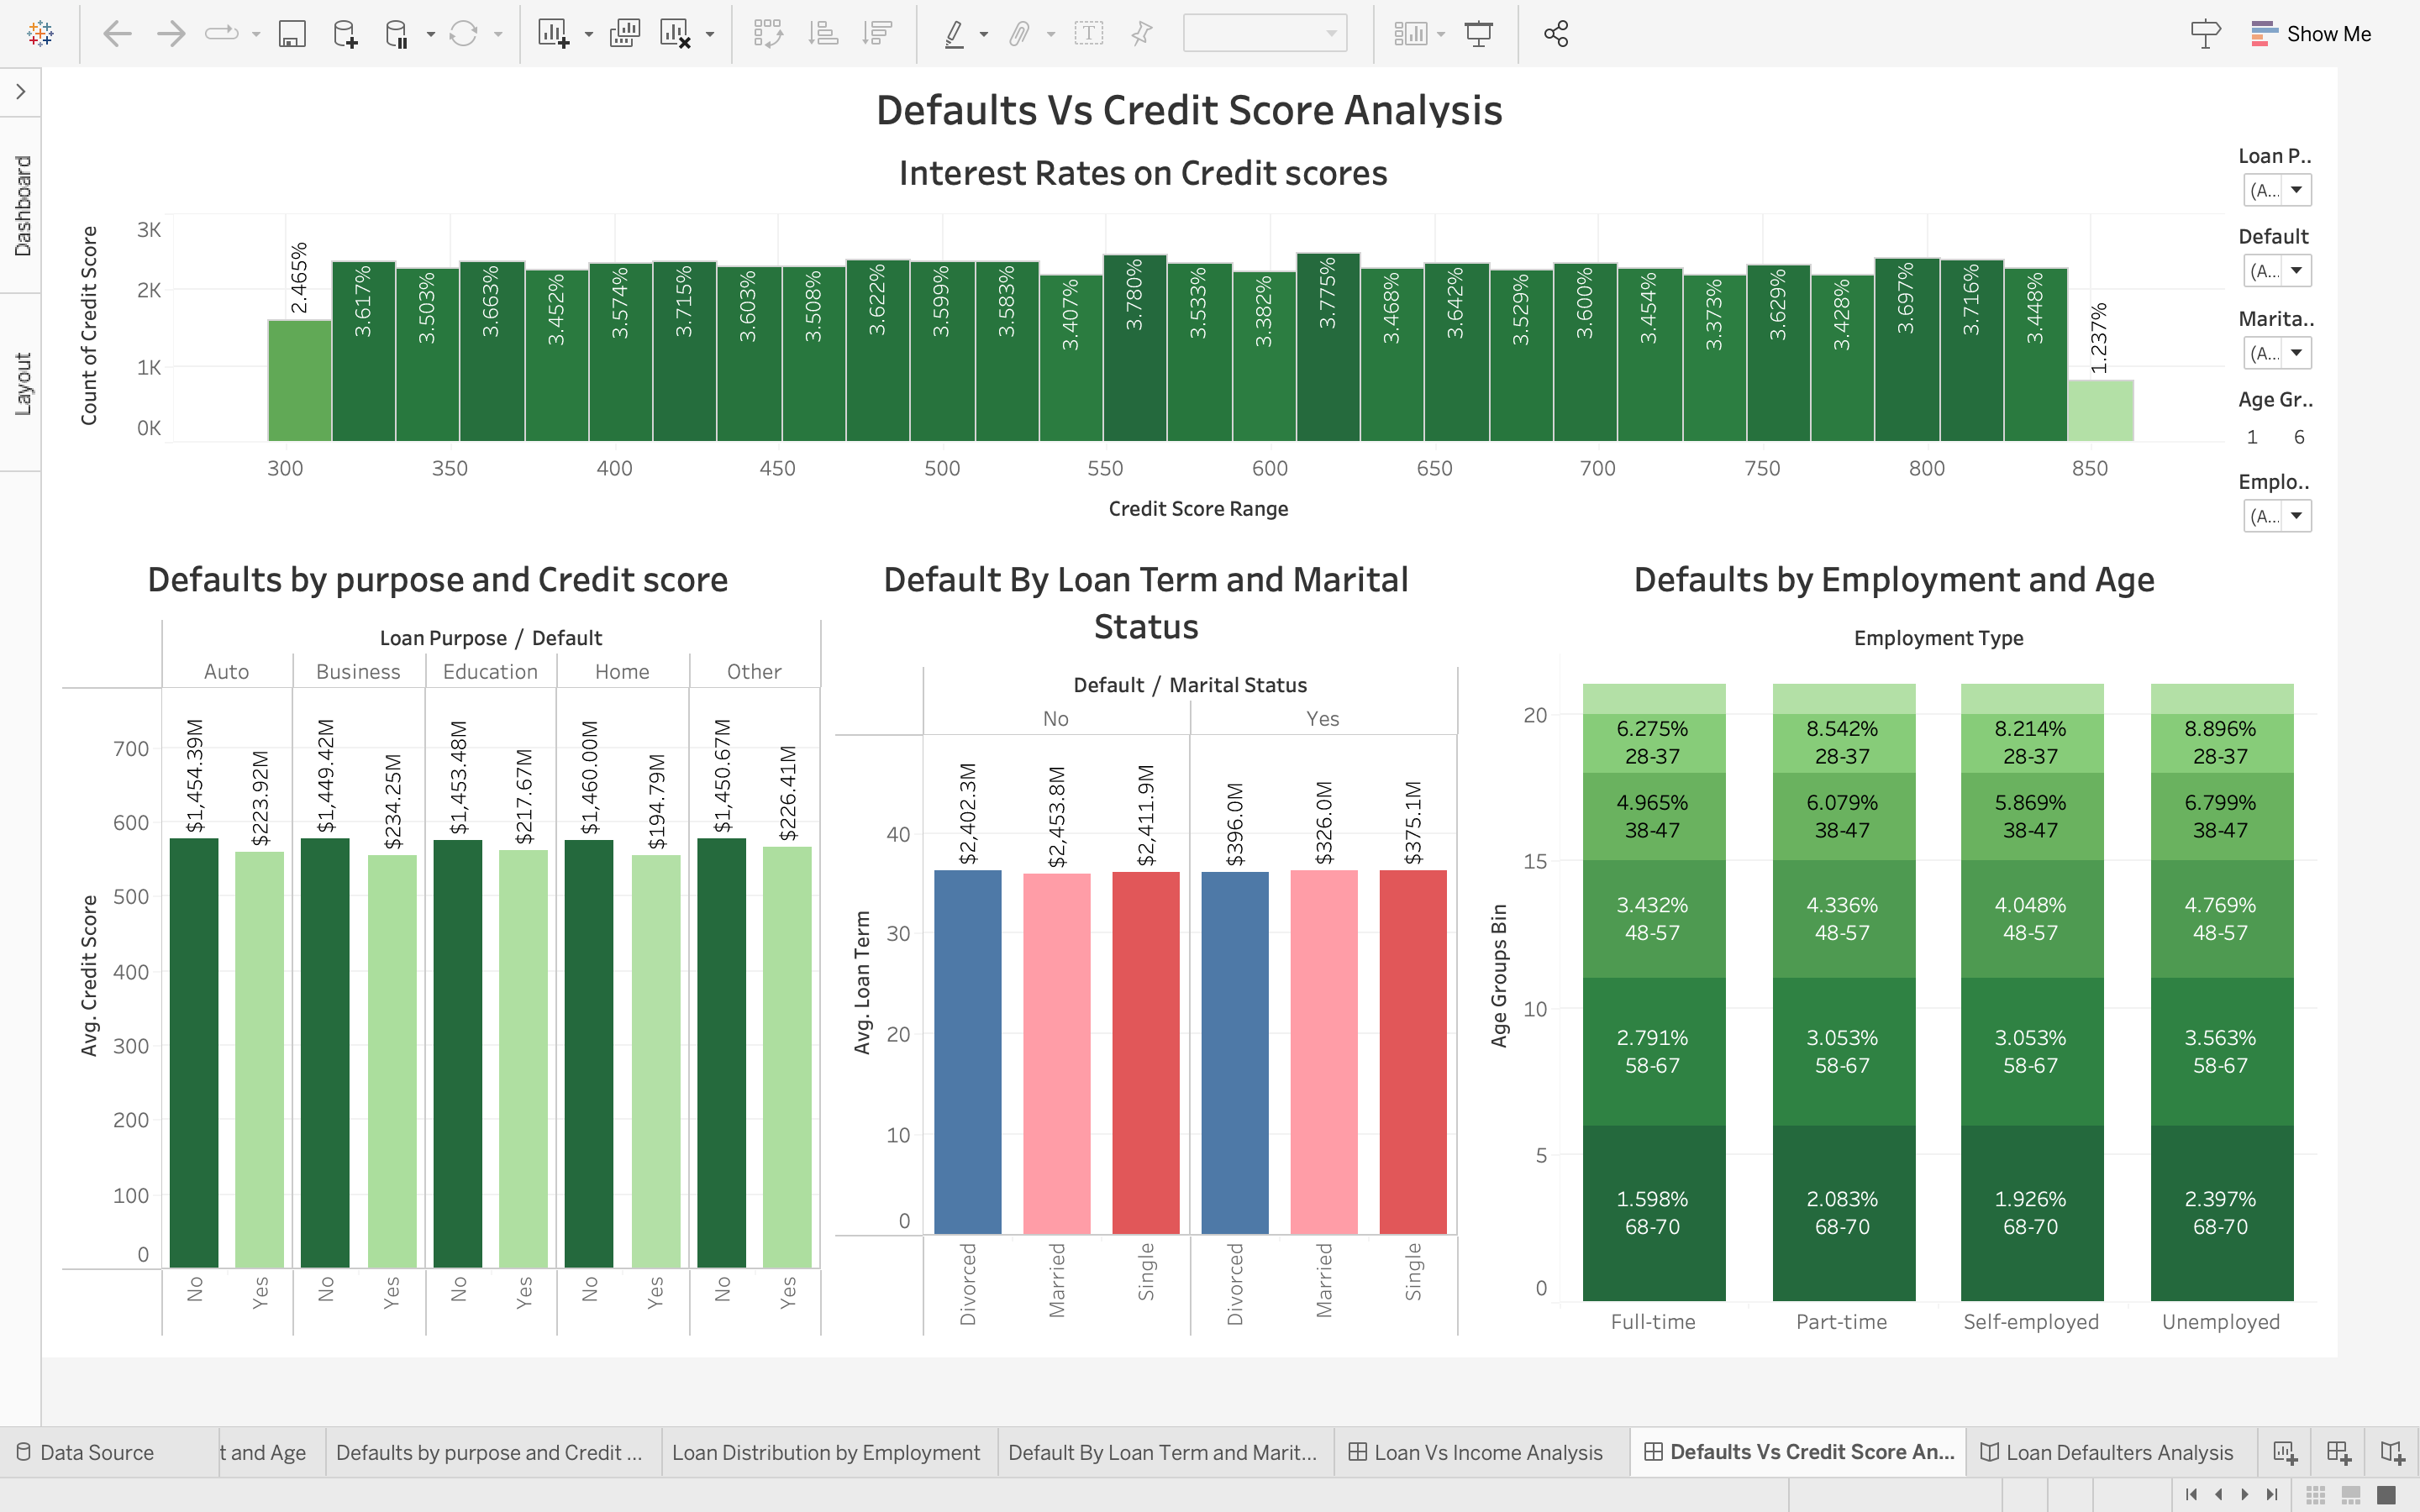

This screenshot's page, from the dashboard's own definition file:
{"tool":"tableau","page":{"name":"Defaults Vs Credit Score Analysis","canvas":[1366,768],"ordinal":0},"visuals":[{"type":"title","box":[8,8,1350,32]},{"type":"worksheet","title":"Interest Rates on Credit scores","mark":"Automatic","rows":["CreditScore"],"cols":["Credit Score (bin)"],"box":[8,40,1295,242]},{"type":"filter","title":"Defaults by purpose and Credit score ","param":"[federated.12nipjj1i3w28v14qn73b0he7jkn].[none:LoanPurpose:nk]","box":[1303,40,55,48.4]},{"type":"filter","title":"Defaults by purpose and Credit score ","param":"[federated.12nipjj1i3w28v14qn73b0he7jkn].[none:Default:ok]","box":[1303,88.4,55,48.4]},{"type":"filter","title":"Default By Loan Term and Marital Status","param":"[federated.12nipjj1i3w28v14qn73b0he7jkn].[none:MaritalStatus:nk]","box":[1303,136.8,55,48.4]},{"type":"filter","title":"Defaults by Employment and Age","param":"[federated.12nipjj1i3w28v14qn73b0he7jkn].[none:Age (bin):qk]","box":[1303,185.2,55,48.4]},{"type":"filter","title":"Defaults by Employment and Age","param":"[federated.12nipjj1i3w28v14qn73b0he7jkn].[none:EmploymentType:nk]","box":[1303,233.6,55,48.4]},{"type":"worksheet","title":"Defaults by purpose and Credit score ","mark":"Automatic","rows":["CreditScore"],"cols":["LoanPurpose","Default"],"box":[8,282,460,478]},{"type":"worksheet","title":"Default By Loan Term and Marital Status","mark":"Automatic","rows":["LoanTerm"],"cols":["Default","MaritalStatus"],"box":[468,282,379,478]},{"type":"worksheet","title":"Defaults by Employment and Age","mark":"Bar","rows":["Age (bin)"],"cols":["EmploymentType"],"box":[847,282,511,478]}]}

Visuals, with their boxes on the page's 1366x768 design canvas (x1, y1, x2, y2). These are canvas units, not pixel positions in the 2420x1512 screenshot, which may show the page scaled, cropped or inside an application window:
title: select_region(8, 8, 1358, 40)
"Interest Rates on Credit scores" worksheet: select_region(8, 40, 1303, 282)
"Defaults by purpose and Credit score " filter: select_region(1303, 40, 1358, 88)
"Defaults by purpose and Credit score " filter: select_region(1303, 88, 1358, 137)
"Default By Loan Term and Marital Status" filter: select_region(1303, 137, 1358, 185)
"Defaults by Employment and Age" filter: select_region(1303, 185, 1358, 234)
"Defaults by Employment and Age" filter: select_region(1303, 234, 1358, 282)
"Defaults by purpose and Credit score " worksheet: select_region(8, 282, 468, 760)
"Default By Loan Term and Marital Status" worksheet: select_region(468, 282, 847, 760)
"Defaults by Employment and Age" worksheet (Bar marks): select_region(847, 282, 1358, 760)
